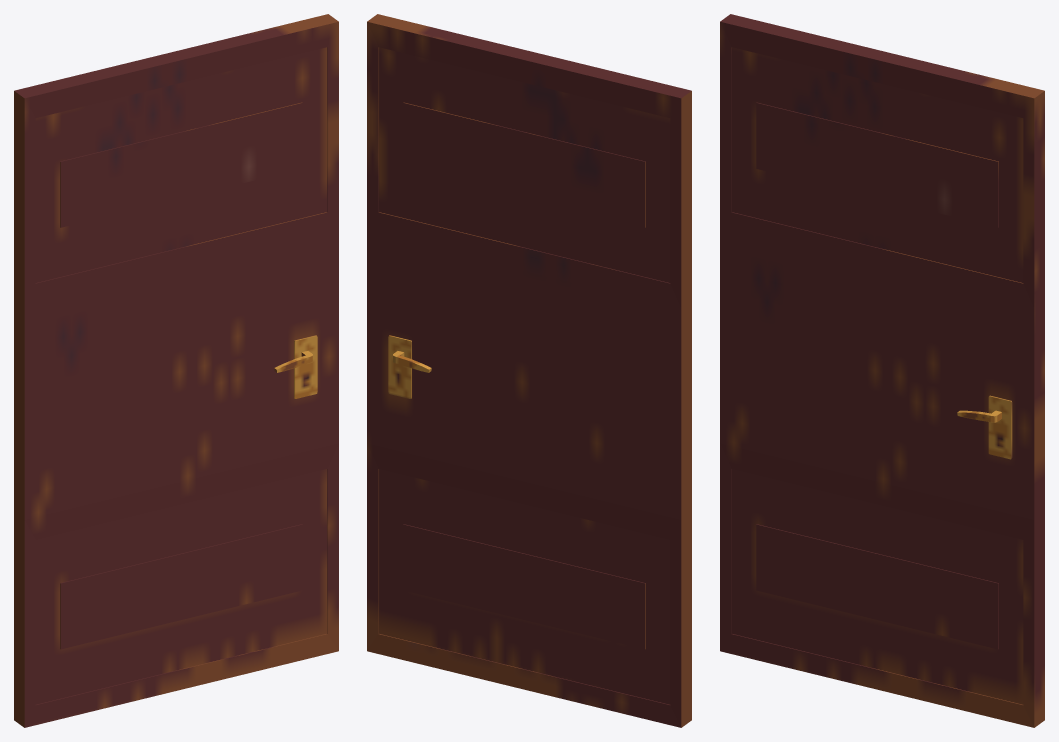
Rendered from Door mesh.fbx.
3 renders of one model, left to right at view 1: azimuth 30°, elevation 25°; view 2: azimuth 150°, elevation 25°; view 3: azimuth 330°, elevation 25°, orthographic.
Visible parts, largest first — view 1: Door Mesh; view 2: Door Mesh; view 3: Door Mesh.
Part boxes in pixels (x1,y1,x2,y2): Door Mesh: [14, 14, 338, 727]; Door Mesh: [367, 14, 691, 727]; Door Mesh: [720, 14, 1044, 727].
Bounding box in the file's own units: 1.2 × 2.29 × 0.1679.
